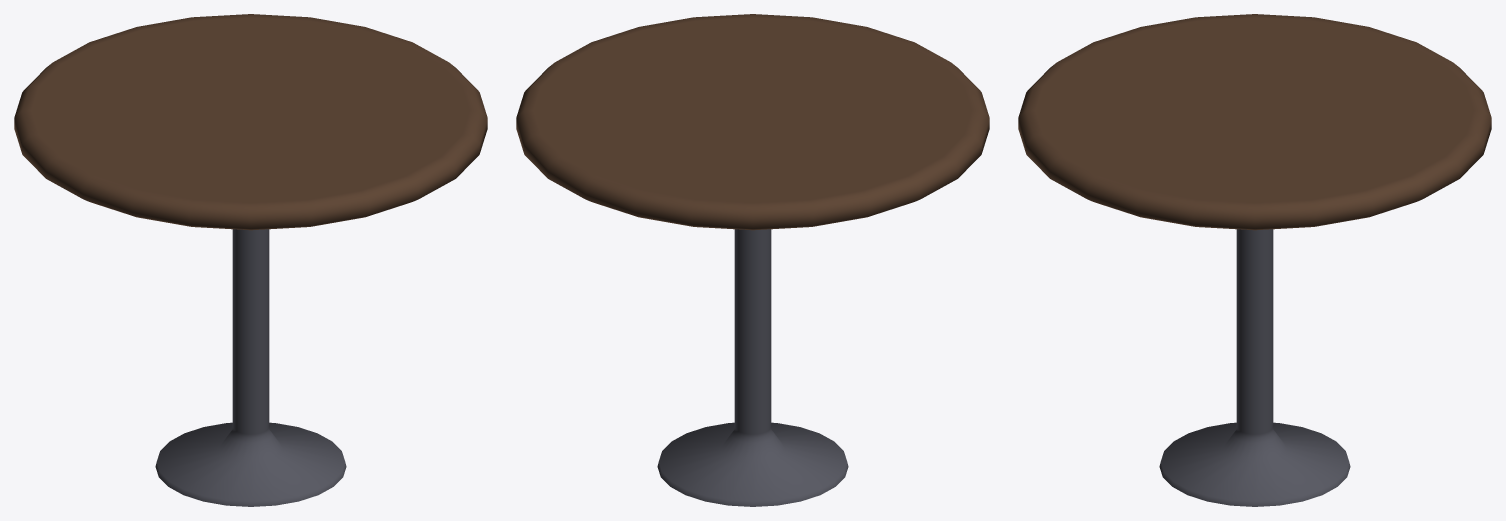
File: Table.fbx
The picture shows the model from 3 angles, left to right: view 1: azimuth 30°, elevation 25°; view 2: azimuth 150°, elevation 25°; view 3: azimuth 270°, elevation 25°; orthographic projection.
Visible parts, largest first — view 1: Table; view 2: Table; view 3: Table.
Part boxes in pixels (x1,y1,x2,y2): Table: [14, 14, 487, 506]; Table: [516, 14, 989, 506]; Table: [1018, 14, 1491, 506].
Bounding box in the file's own units: 94.67 × 78.54 × 94.67.
